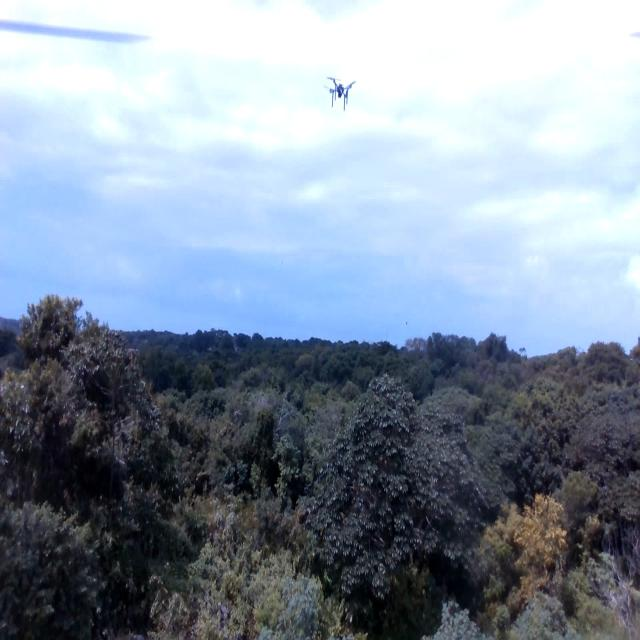-uav-: (326, 71, 356, 113)
